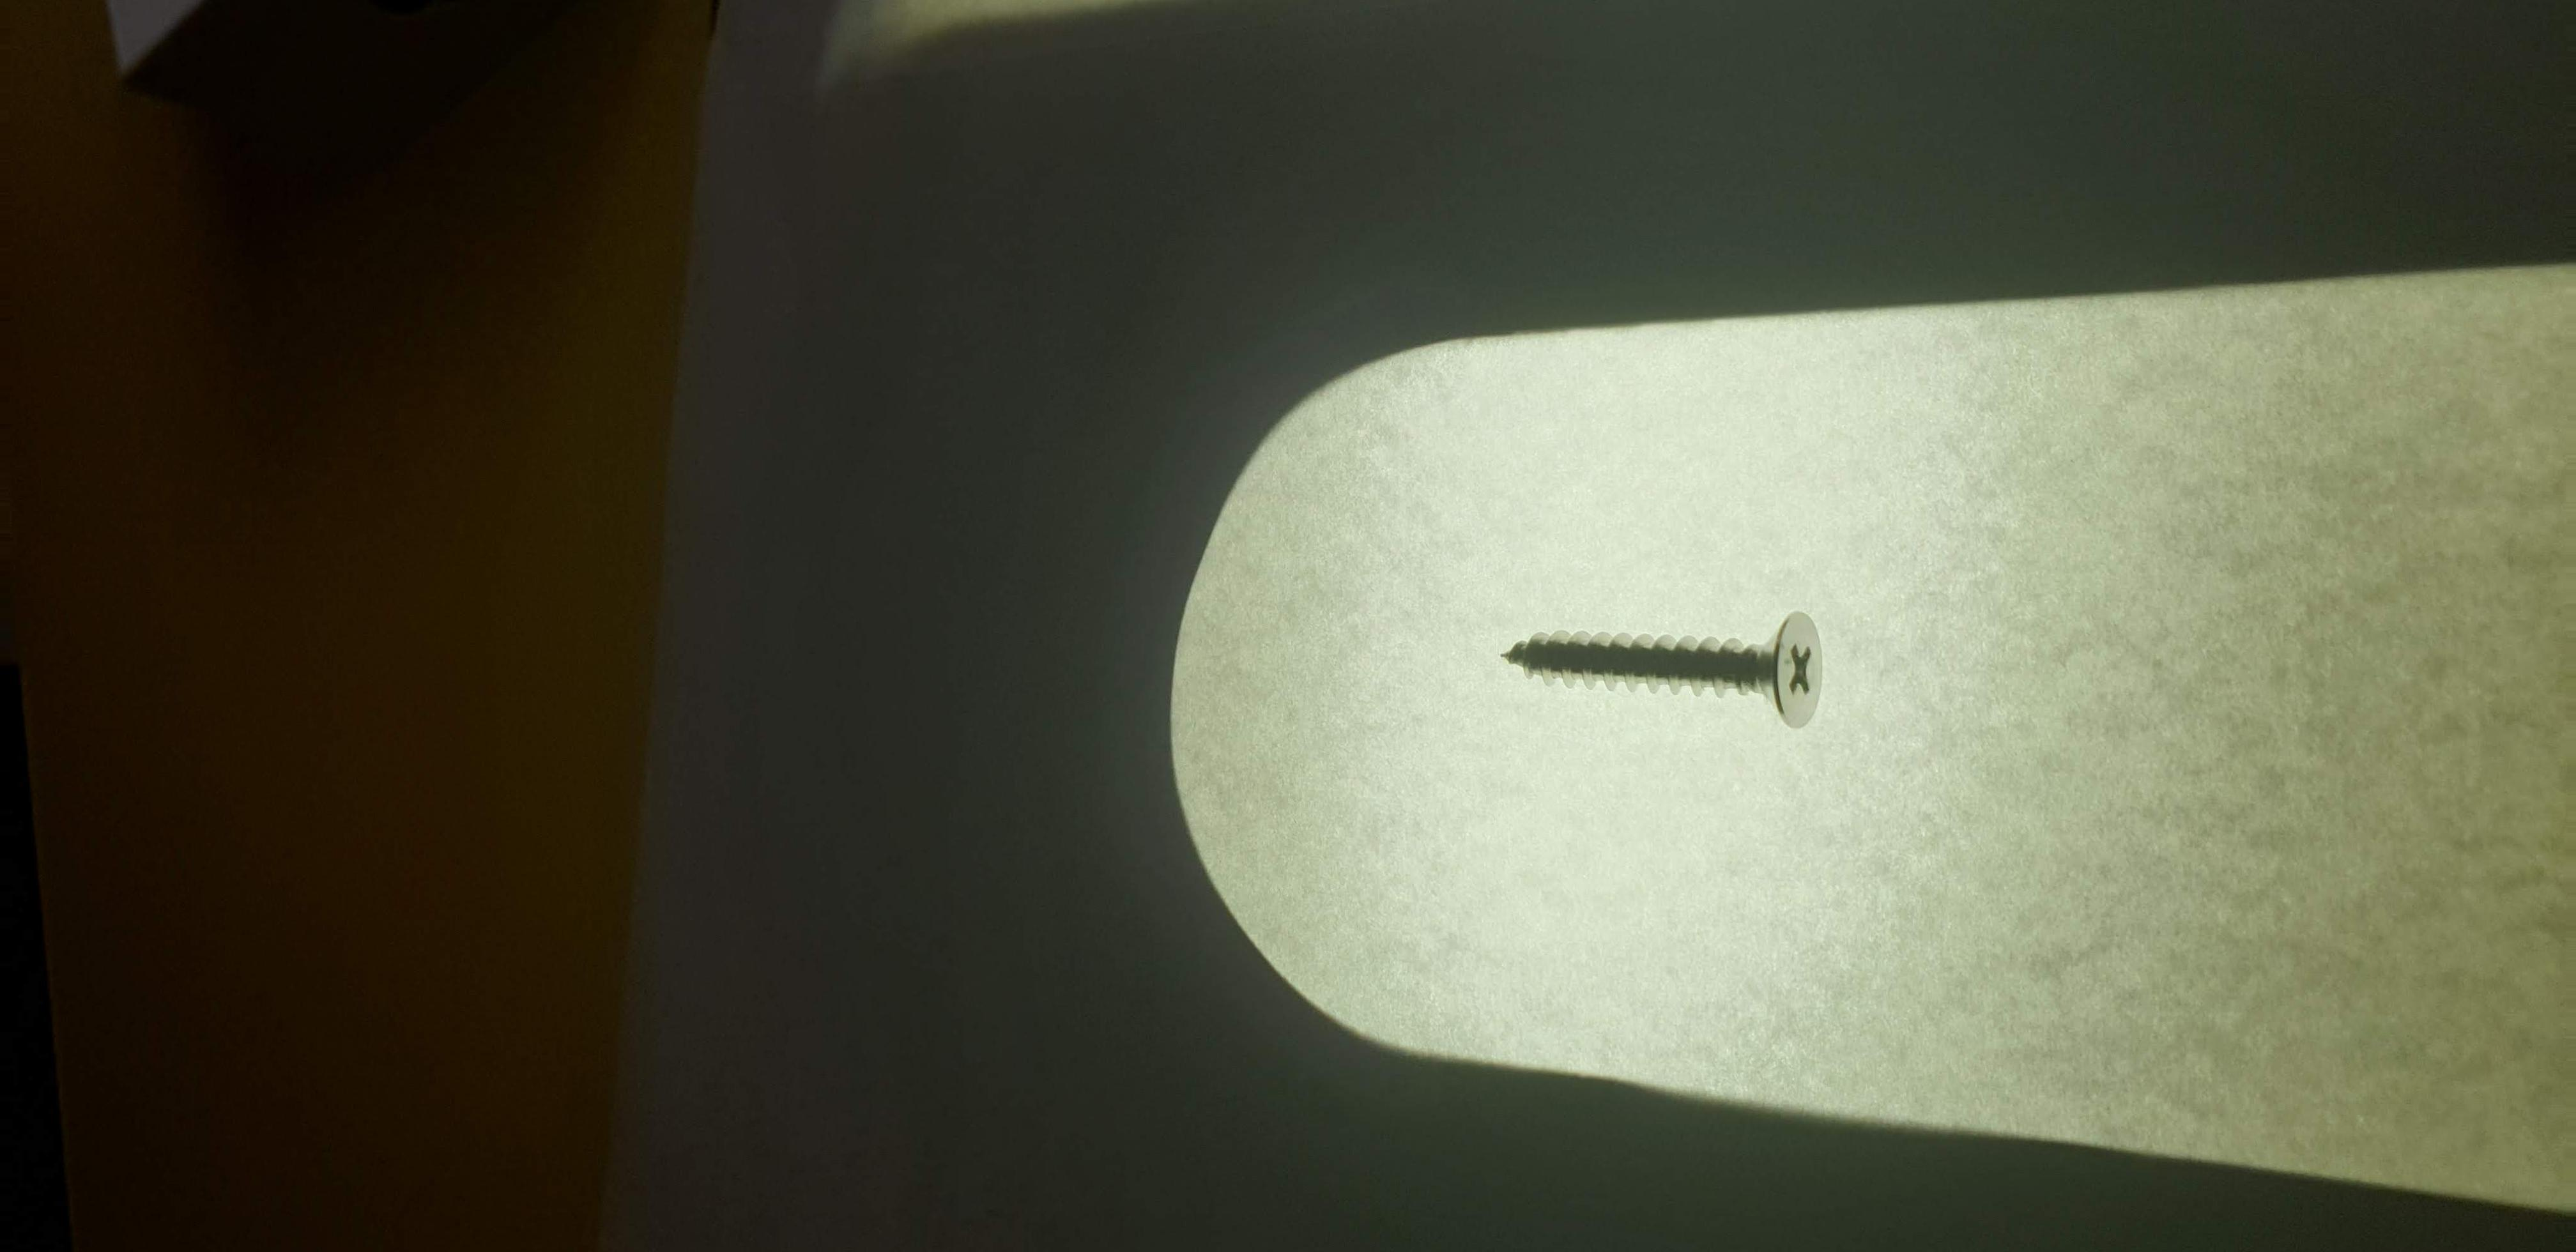S004: (1470, 583, 1897, 764)
